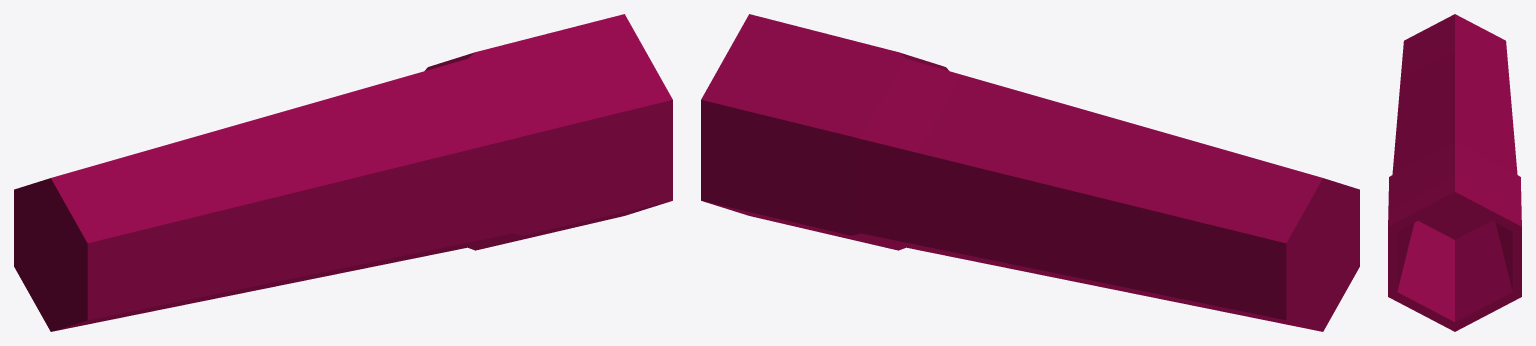
File: Felt_Pen_Plug_02.fbx
3 renders of one model, left to right at view 1: azimuth 30°, elevation 25°; view 2: azimuth 150°, elevation 25°; view 3: azimuth 270°, elevation 25°, orthographic. The views are drawn at different scales.
Visible parts, largest first — view 1: Felt_Pen_Plug_02; view 2: Felt_Pen_Plug_02; view 3: Felt_Pen_Plug_02.
Boxes of the visible parts, box(x1,y1,x2,y2) form: Felt_Pen_Plug_02: box(14, 14, 672, 331); Felt_Pen_Plug_02: box(701, 14, 1359, 331); Felt_Pen_Plug_02: box(1388, 14, 1521, 331).
Bounding box in the file's own units: 20.87 × 7.02 × 6.08.
